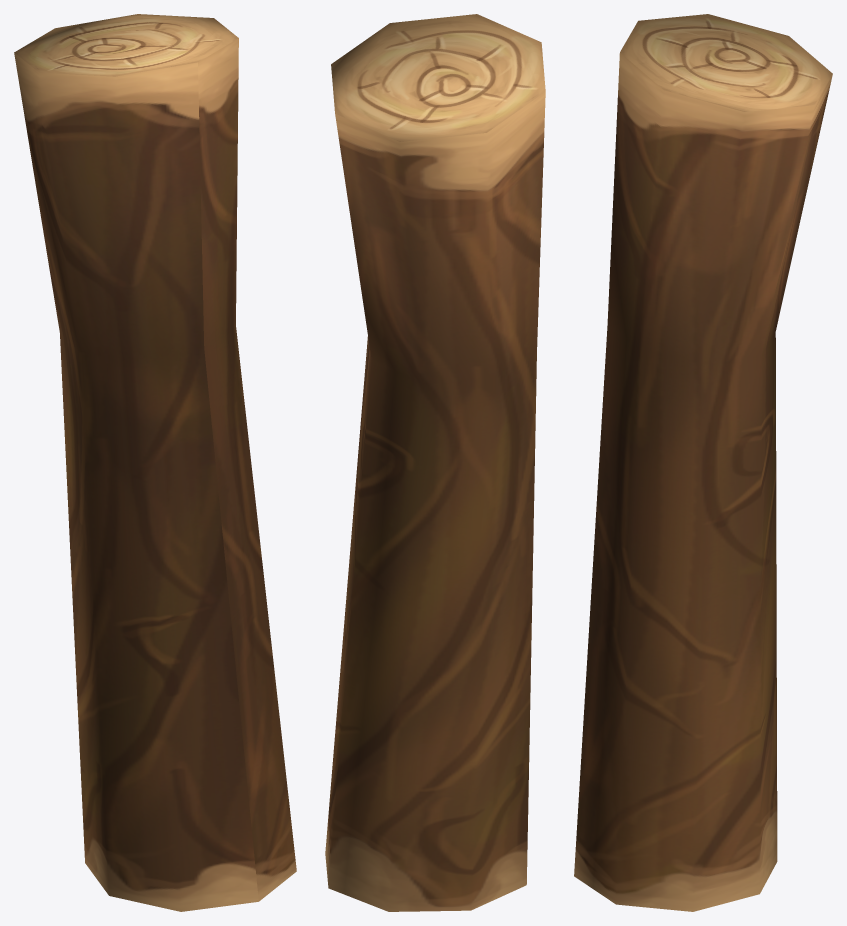
The model's file is fence_05.fbx.
3 renders of one model, left to right at view 1: azimuth 30°, elevation 25°; view 2: azimuth 150°, elevation 25°; view 3: azimuth 270°, elevation 25°, orthographic. The views are drawn at different scales.
Visible parts, largest first — view 1: fence_05; view 2: fence_05; view 3: fence_05.
Part boxes in pixels (x1=…): fence_05: x1=14, y1=14, x2=296, y2=911; fence_05: x1=325, y1=14, x2=545, y2=911; fence_05: x1=574, y1=14, x2=832, y2=911.
Bounding box in the file's own units: 0.7252 × 2.55 × 0.7416.
